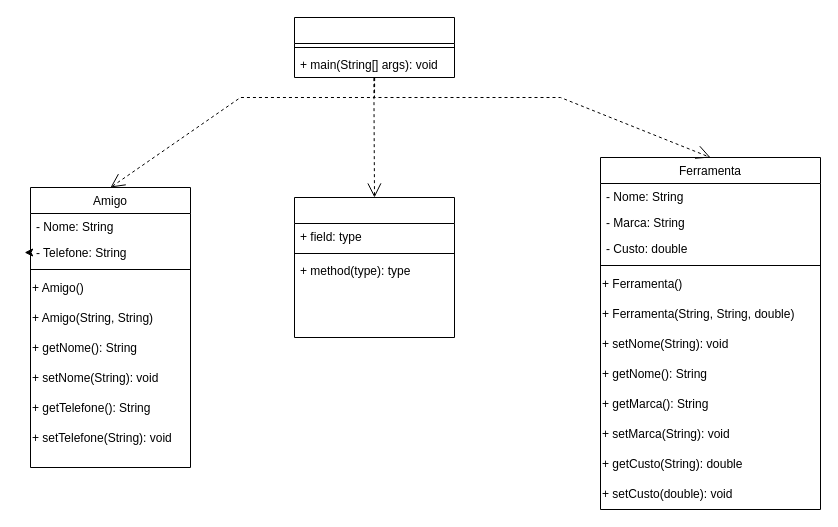
Image size: 838x527. Some labels were removed from this diagram. The shapes that lost their labels are listed below. From the top down, each one's box as (x1, y1, x2, y2) in pixels, then its label:
(294, 16, 454, 78): Principal
(294, 196, 454, 338): Emprestimo
